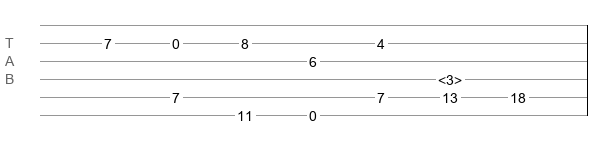0: (172, 36, 180, 46), (309, 108, 317, 118)
11: (237, 108, 253, 118)
13: (442, 90, 458, 100)
18: (510, 90, 526, 100)
4: (377, 36, 385, 46)
6: (309, 54, 317, 64)
7: (104, 36, 112, 46), (172, 90, 180, 100), (377, 90, 385, 100)
8: (241, 36, 249, 46)
harmonic: (438, 72, 462, 82)
